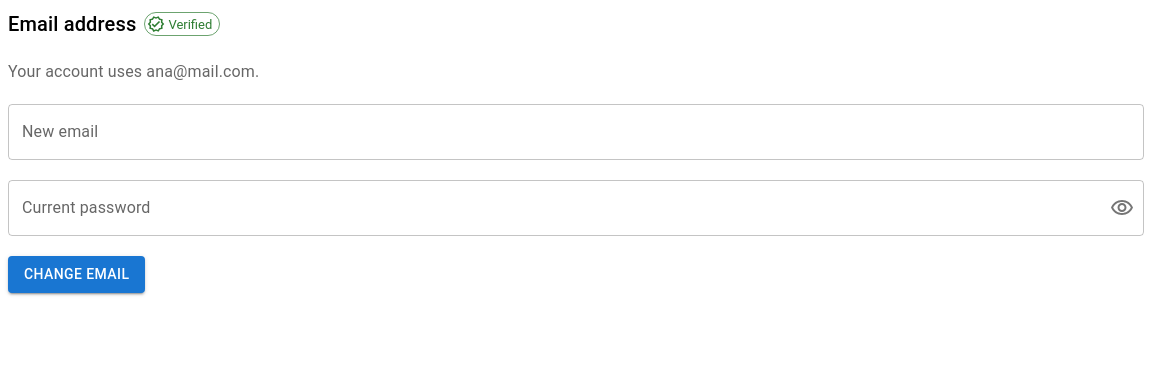
Test case: EmailSection › shows what the API says, for example that the address is taken
In the field labelled "New email": (576, 132) [8, 104, 1144, 160], type "taken@mail.com"
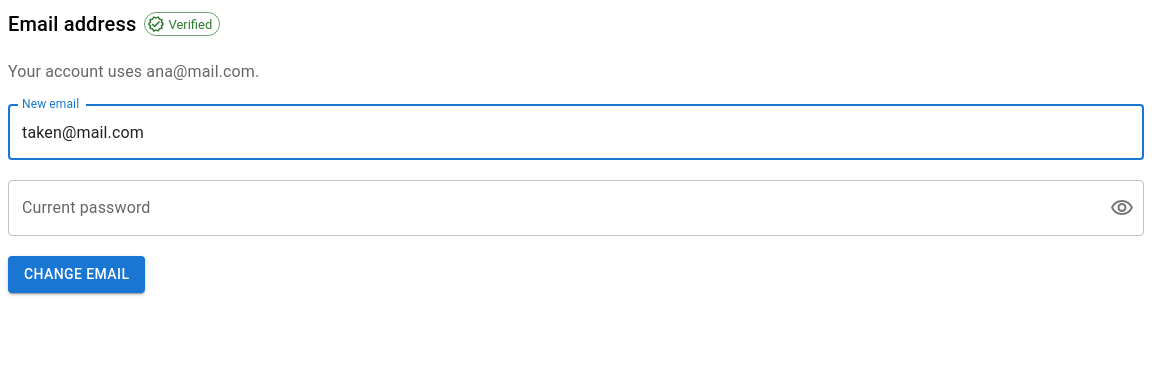
In the password field labelled "Current password": (551, 208) [8, 180, 1094, 236], type "Password1"
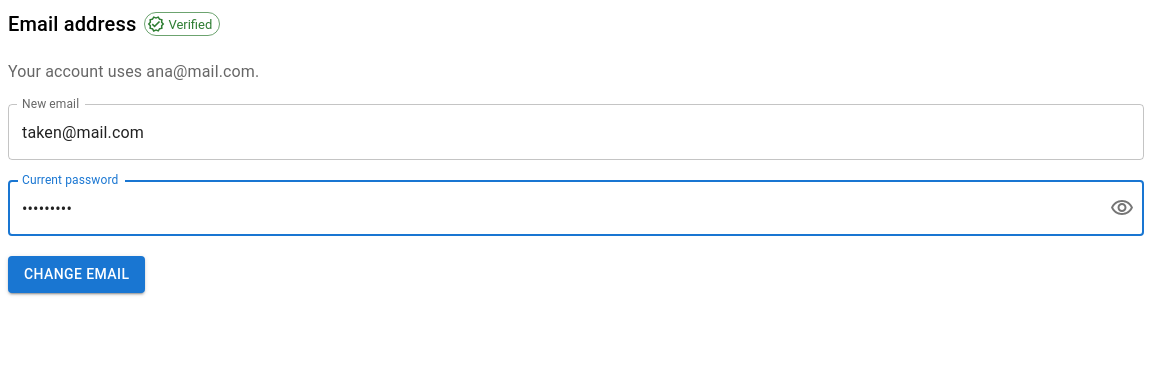
Click the button "Change email": (77, 274) [8, 256, 145, 292]
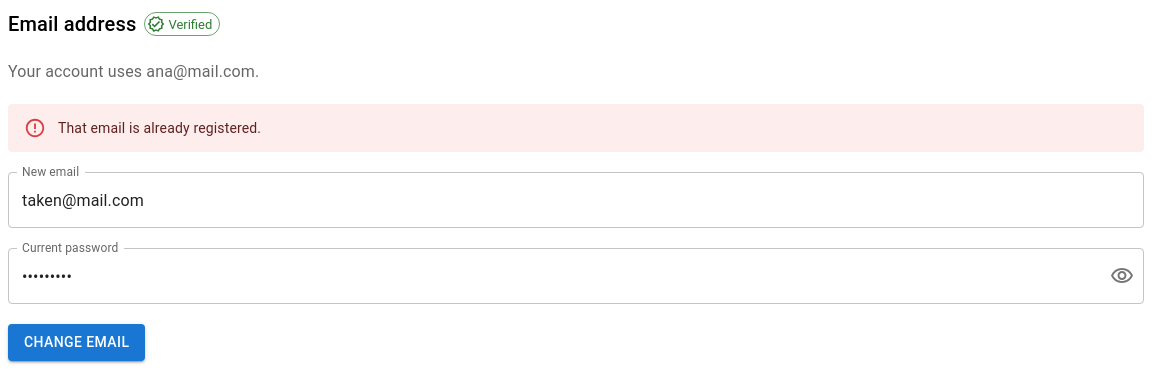
Expected: the text "That email is already registered." is shown, [58, 118, 261, 138]
